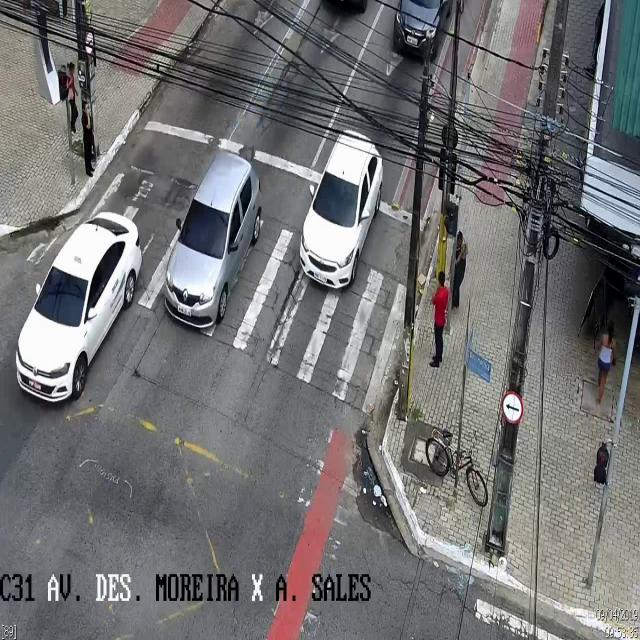Car: (13, 214, 142, 406), (160, 147, 264, 336), (299, 131, 385, 295), (395, 0, 455, 60)
